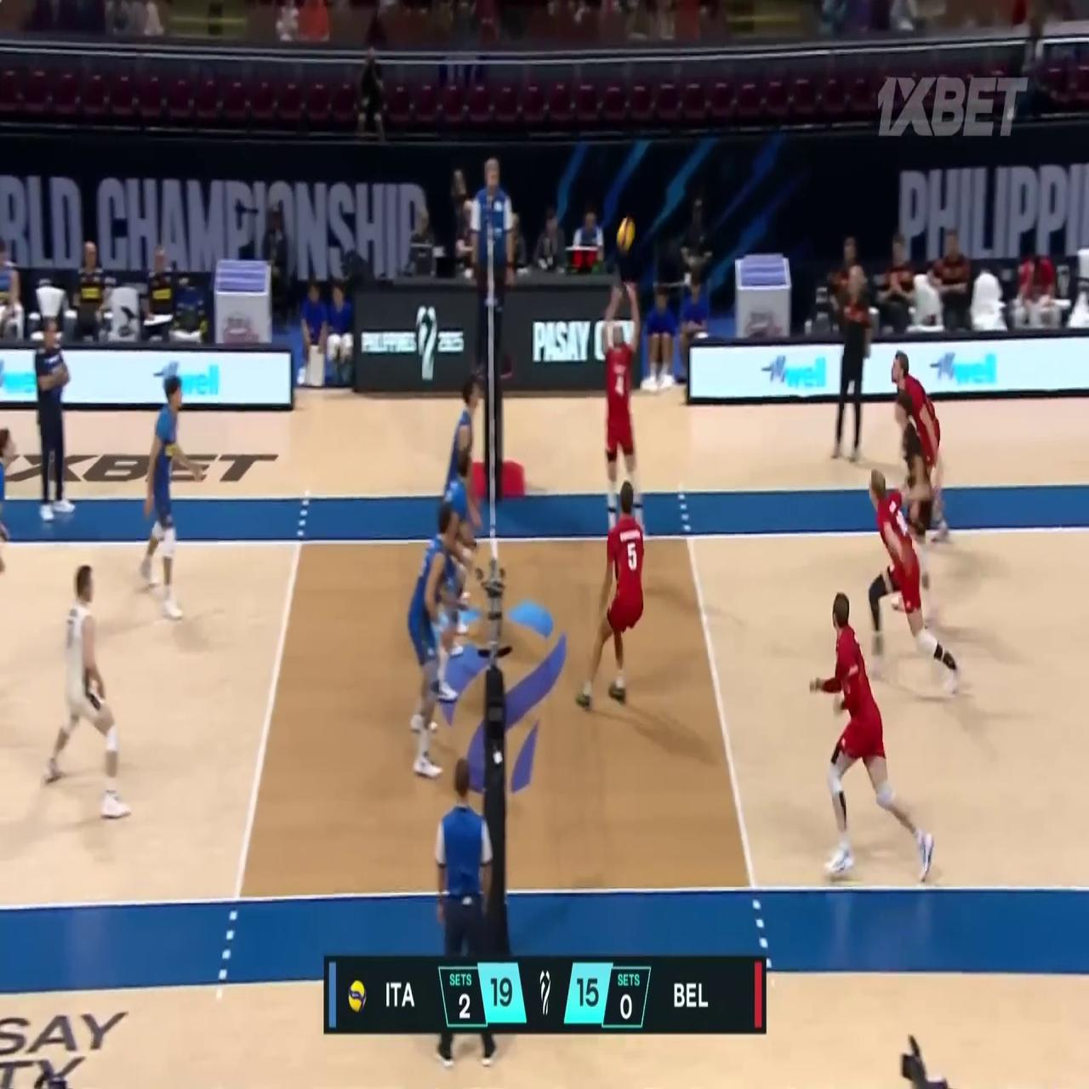ball: (617, 215, 635, 251)
